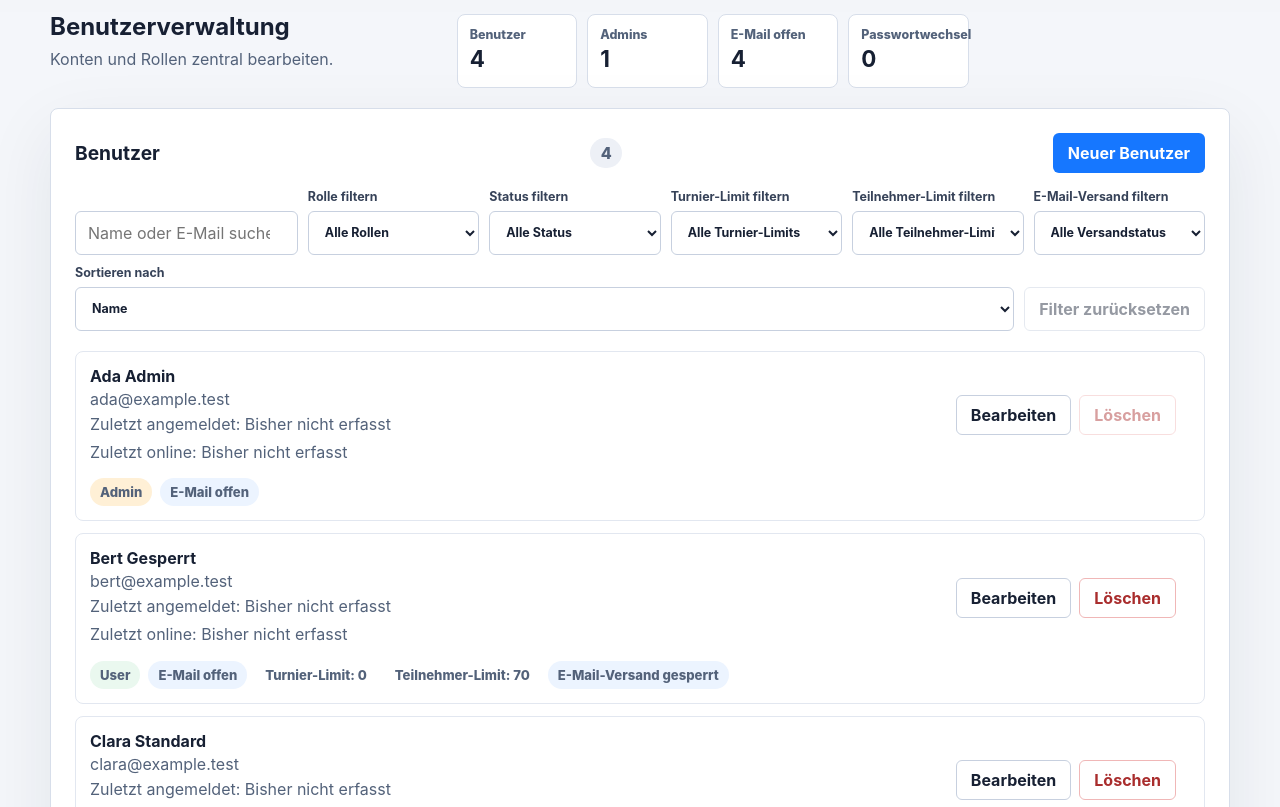
Test: Benutzer-Seite: Liste + Dialog › filtert lokal nach Turnier-Limit und E-Mail-Versand und setzt beide zusammen zurück
Select "0" in the dropdown labelled "Turnier-Limit filtern" at (756, 233), box x1=671 y1=211 x2=842 y2=255
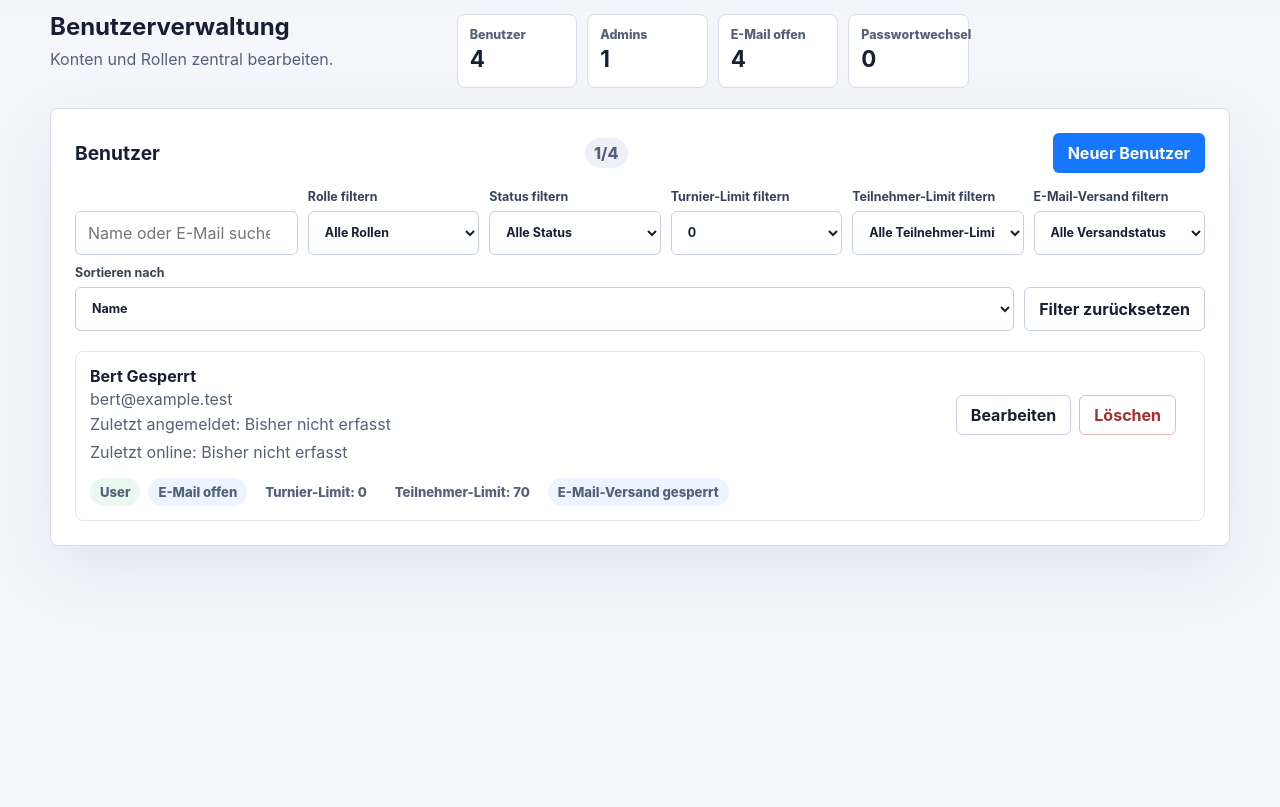
Expected: the text "Bert Gesperrt" is shown, x1=90 y1=366 x2=196 y2=386
Expected: the text "Clara Standard" is gone
Select "E-Mail-Versand freigeschaltet" in the dropdown labelled "E-Mail-Versand filtern" at (1119, 233), box x1=1034 y1=211 x2=1205 y2=255
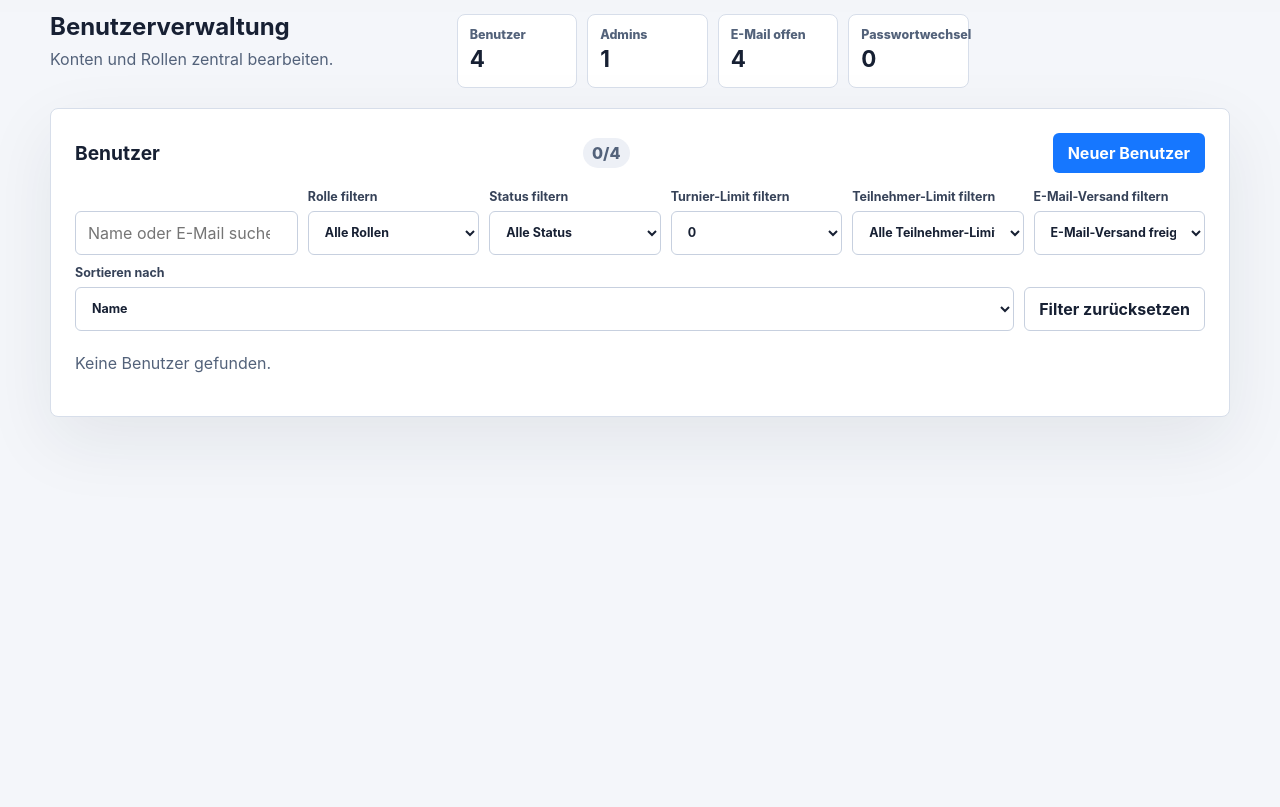
Expected: the text "Keine Benutzer gefunden." is shown, x1=75 y1=353 x2=271 y2=373
Select "Unbegrenzt" in the dropdown labelled "Turnier-Limit filtern" at (756, 233), box x1=671 y1=211 x2=842 y2=255
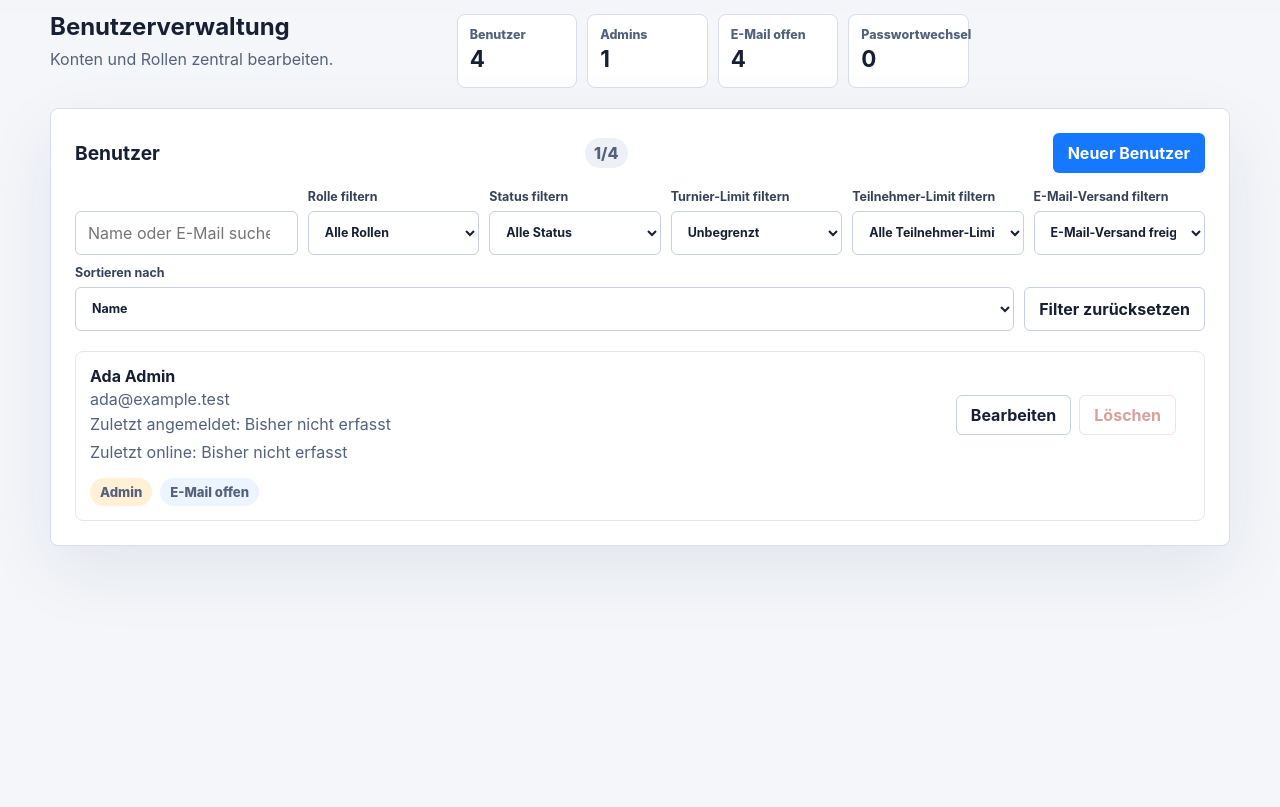
Expected: the text "Bert Gesperrt" is not shown
Expected: the text "Ada Admin" is shown, x1=90 y1=366 x2=175 y2=386
Click the button "Filter zurücksetzen" at (1115, 309), box x1=1024 y1=287 x2=1205 y2=331
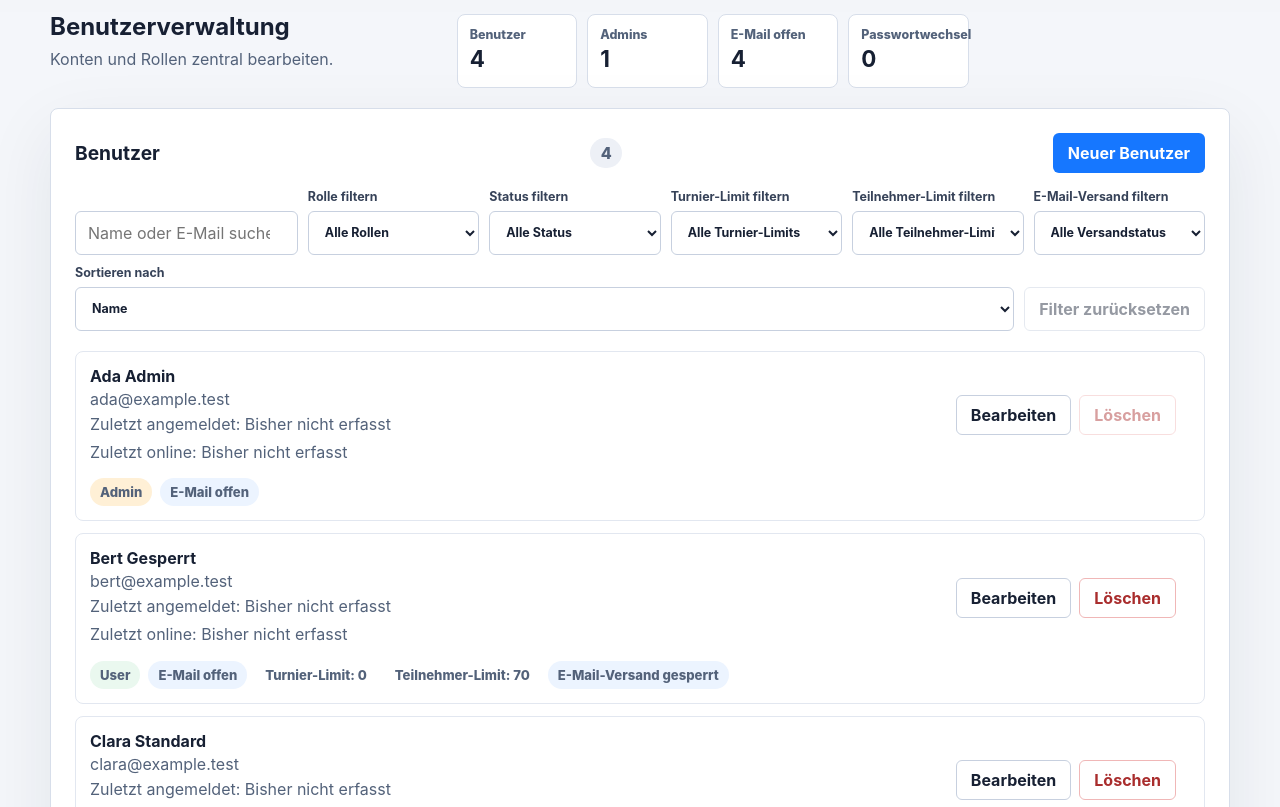
Expected: the text "Clara Standard" is shown, x1=90 y1=731 x2=206 y2=751
Expected: the button "Filter zurücksetzen" is disabled, x1=1024 y1=287 x2=1205 y2=331
